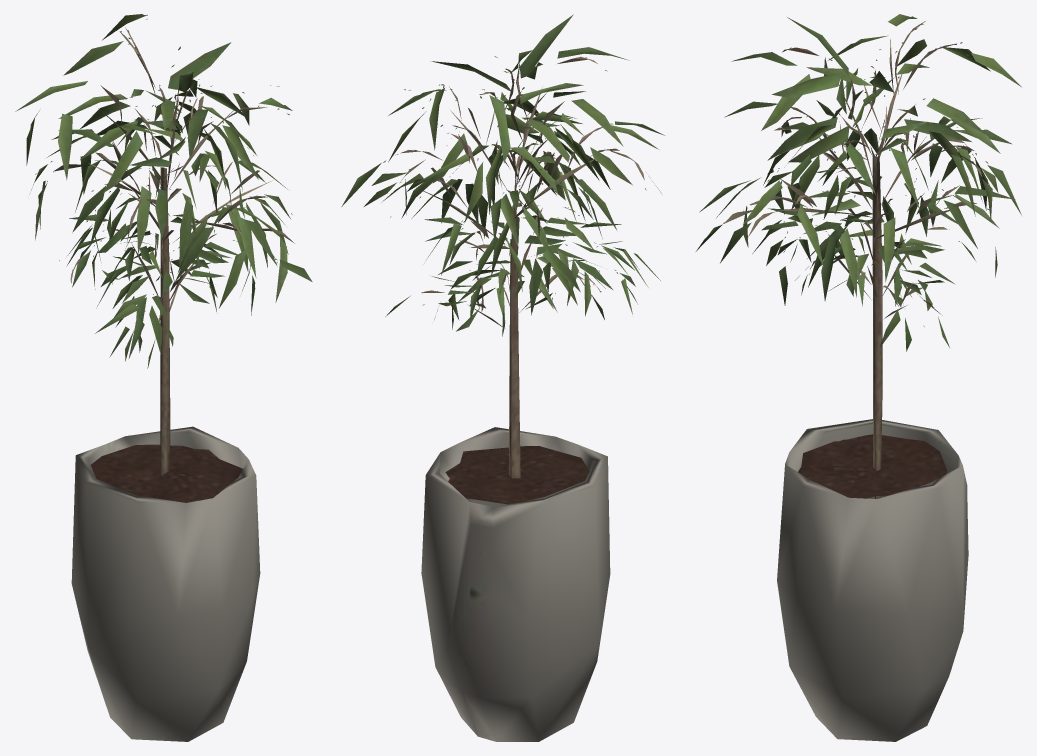
The model's file is Plant0010.obj.
3 views of the same model, side by side, from view 1: azimuth 30°, elevation 25°; view 2: azimuth 150°, elevation 25°; view 3: azimuth 270°, elevation 25° (orthographic). The views are drawn at different scales.
Bounding box in the file's own units: 0.647 × 1.62 × 0.689.
Materials: 1 (1 with a texture image).
